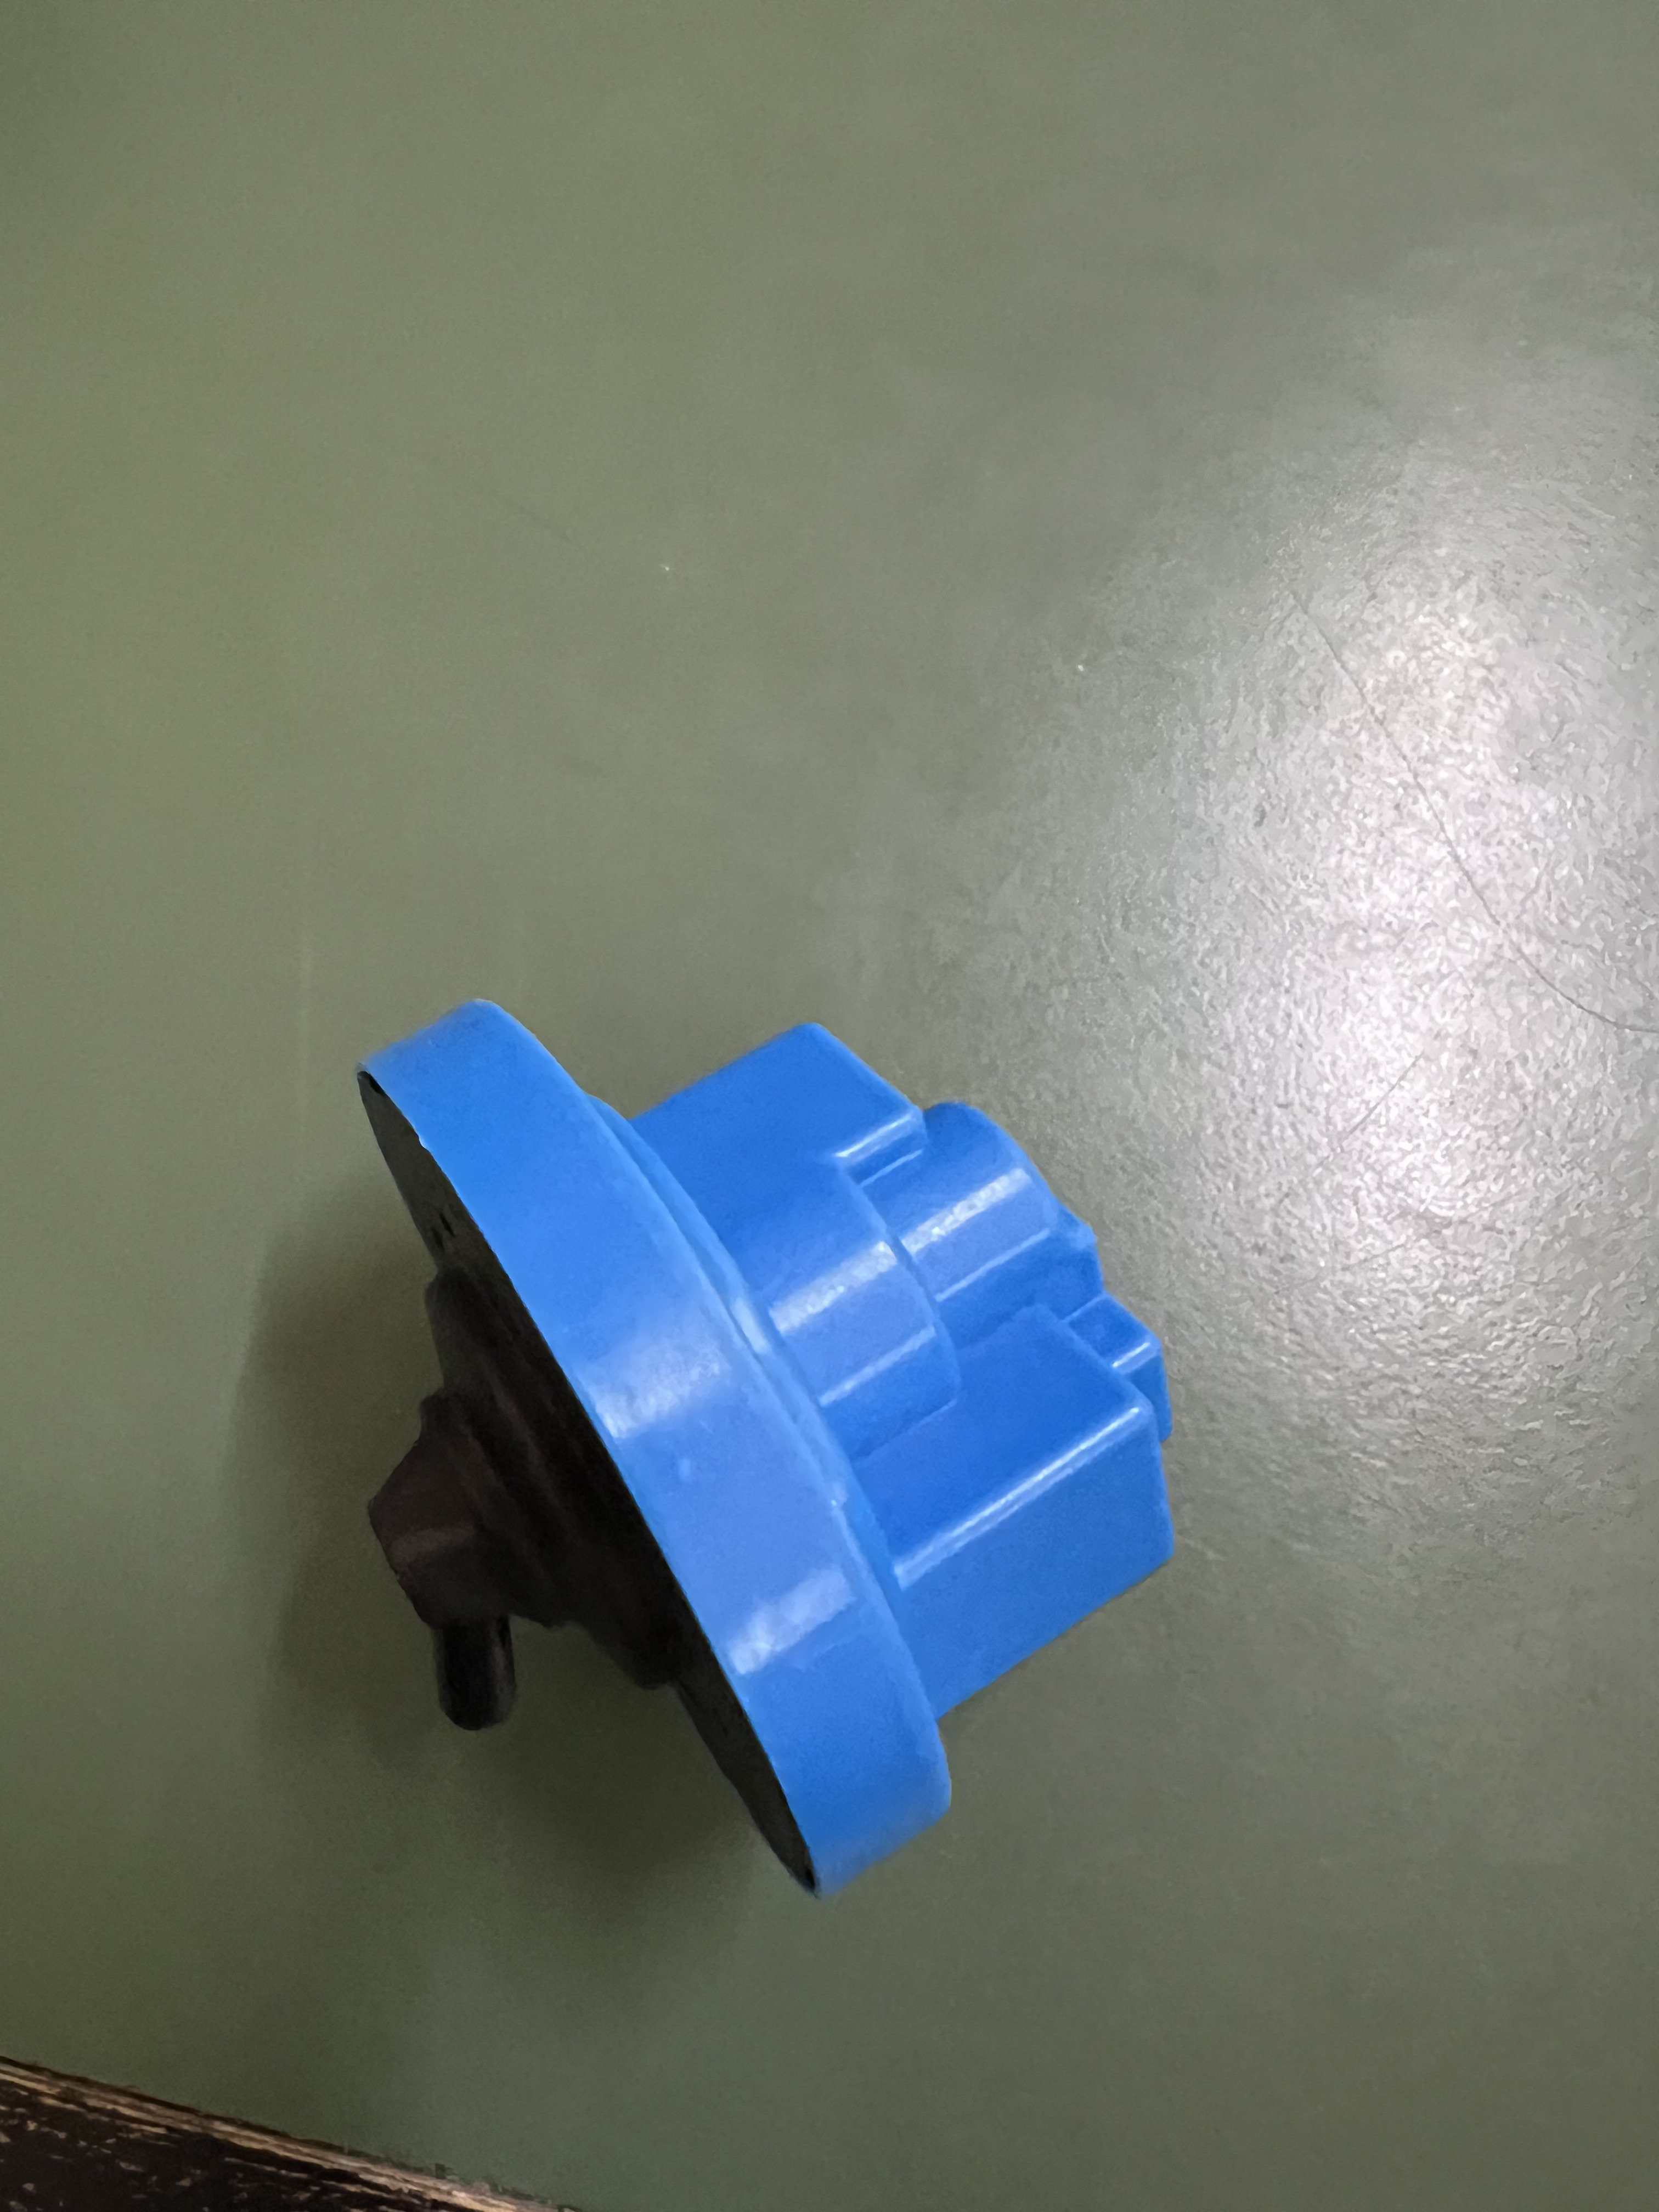voltas_beko_pressure_switch: (314, 970, 1229, 1905)
